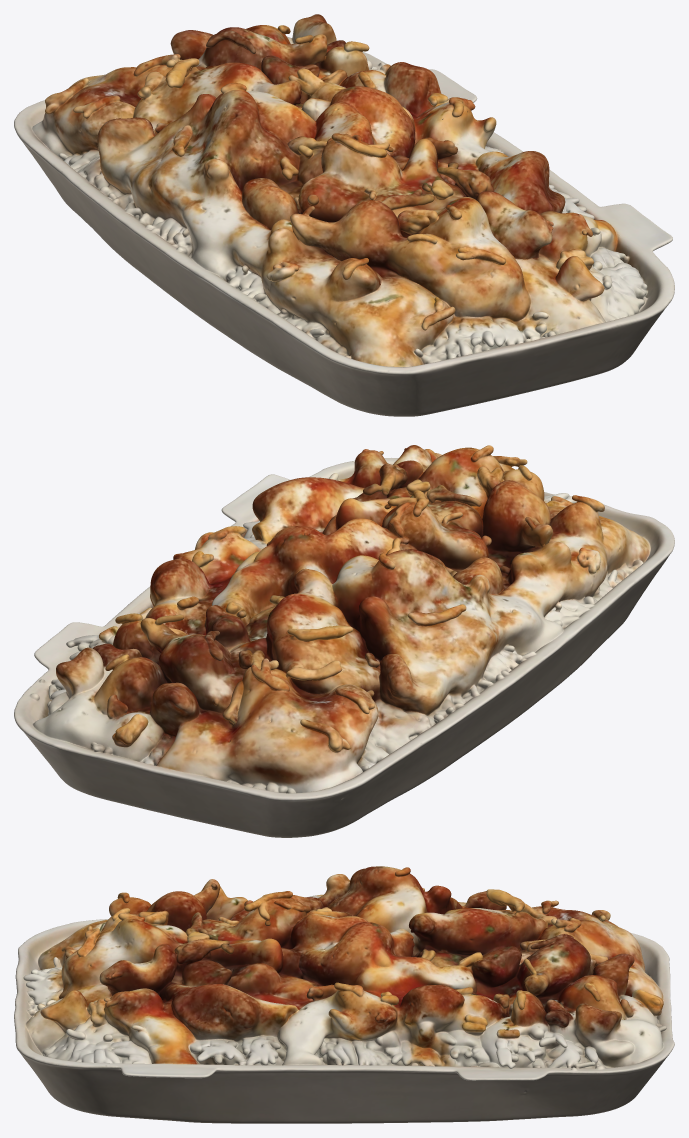
File: New_Project_23102026 (1).glb
3 views of the same model, one above another, from view 1: azimuth 30°, elevation 25°; view 2: azimuth 150°, elevation 25°; view 3: azimuth 270°, elevation 25° (orthographic). The views are drawn at different scales.
Visible parts, largest first — view 1: tripo_node_aa2befea-ac31-472c-bbad-2293bbd63b48; view 2: tripo_node_aa2befea-ac31-472c-bbad-2293bbd63b48; view 3: tripo_node_aa2befea-ac31-472c-bbad-2293bbd63b48.
Boxes of the visible parts, x1,y1,x2,y2 form: tripo_node_aa2befea-ac31-472c-bbad-2293bbd63b48: [14, 14, 674, 416]; tripo_node_aa2befea-ac31-472c-bbad-2293bbd63b48: [14, 445, 674, 837]; tripo_node_aa2befea-ac31-472c-bbad-2293bbd63b48: [14, 866, 674, 1123].
Size of the model in its own units: 0.595 by 0.261 by 1.
Materials: 1 (1 with a texture image).
